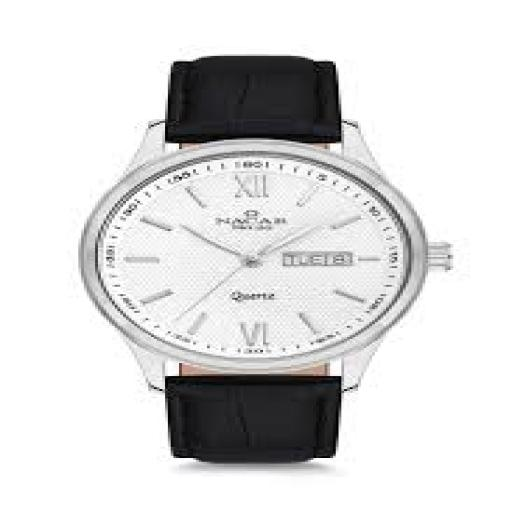KolSaati: (50, 26, 437, 467)
